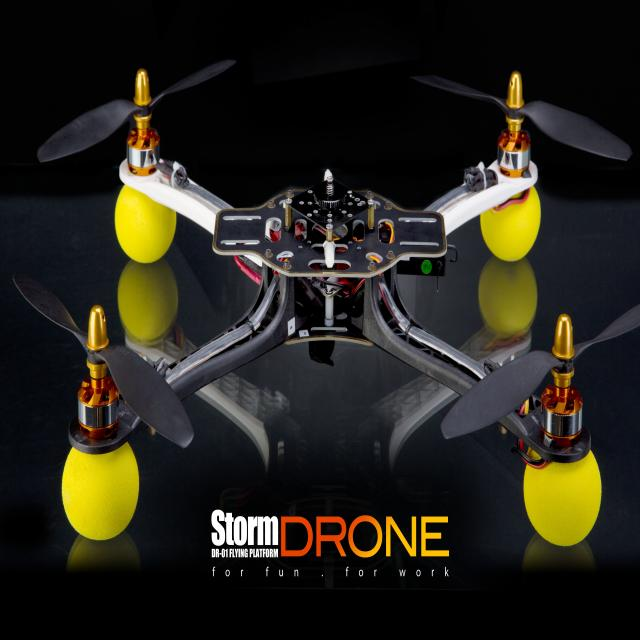drones: (0, 16, 640, 568)
